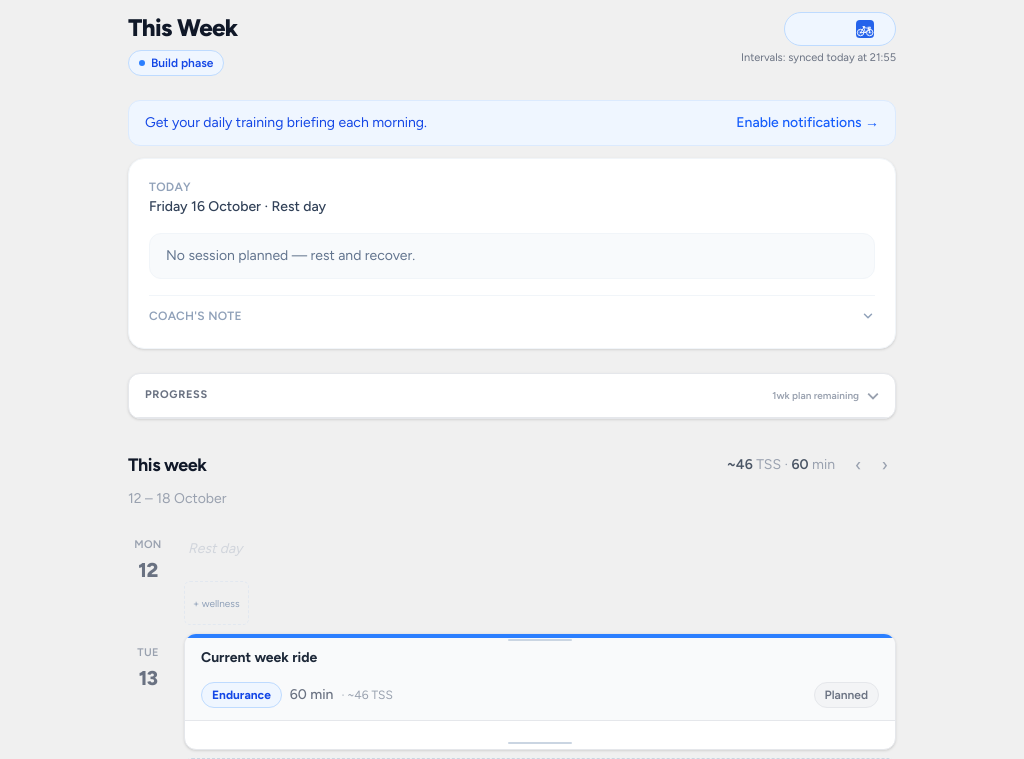
Test: DashboardPage week navigation › navigating to a different week does not change the weekly progress stats above the day list
Expected: the text "Current week ride" is shown, [201,648,317,668]
# The Progress card is collapsed by default — open it to reveal the Sessions tile.
Click the heading "Progress".
click(176, 396)  # box [145,387,208,404]
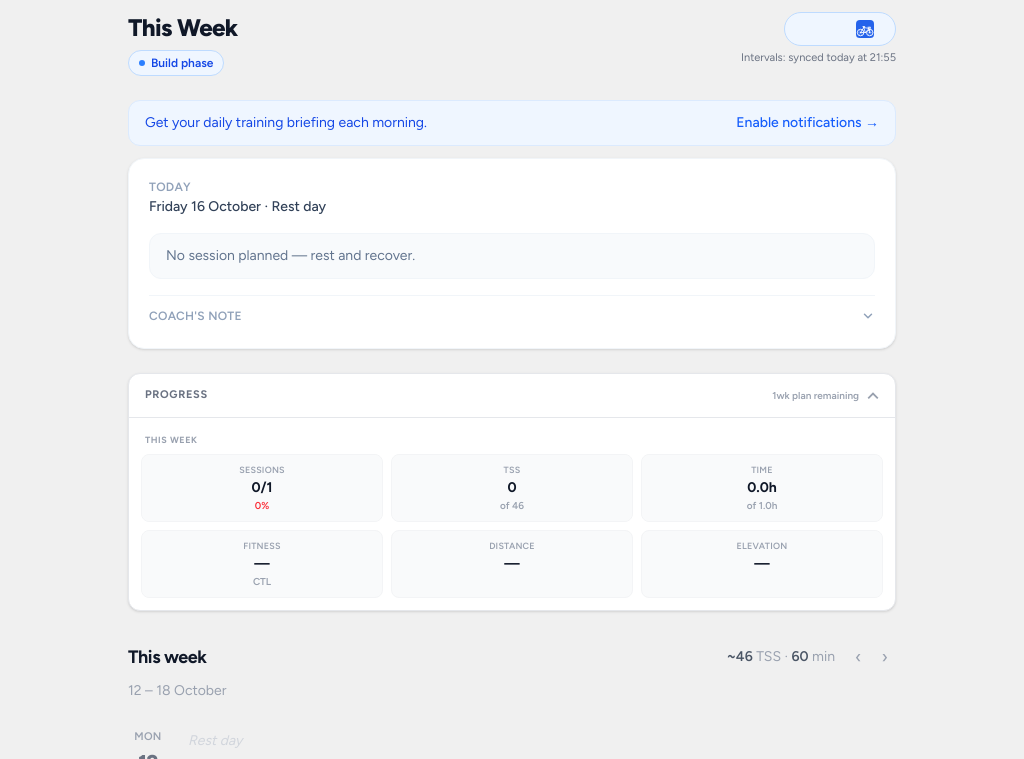
Expected: the text "0/1" is shown, [252,478,272,496]
Click the button named "Next week".
click(885, 657)  # box [874,635,896,679]
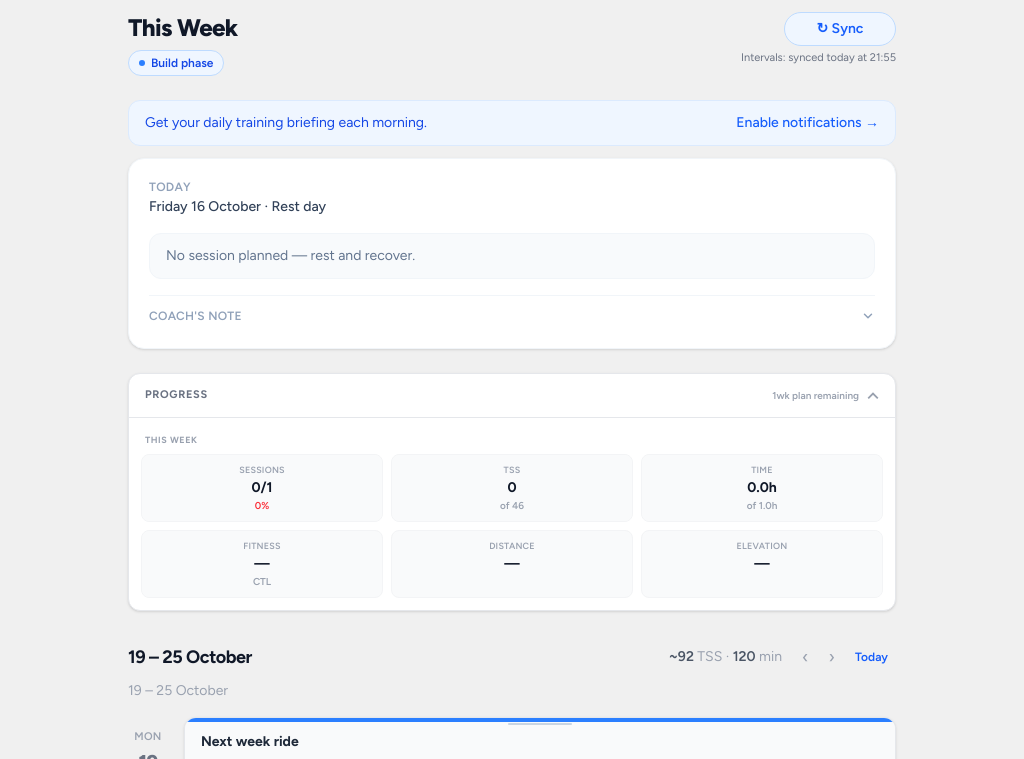
Expected: the text "0/1" is shown, [252,478,272,496]
Expected: the text "Next week ride" is shown, [201,732,299,752]
